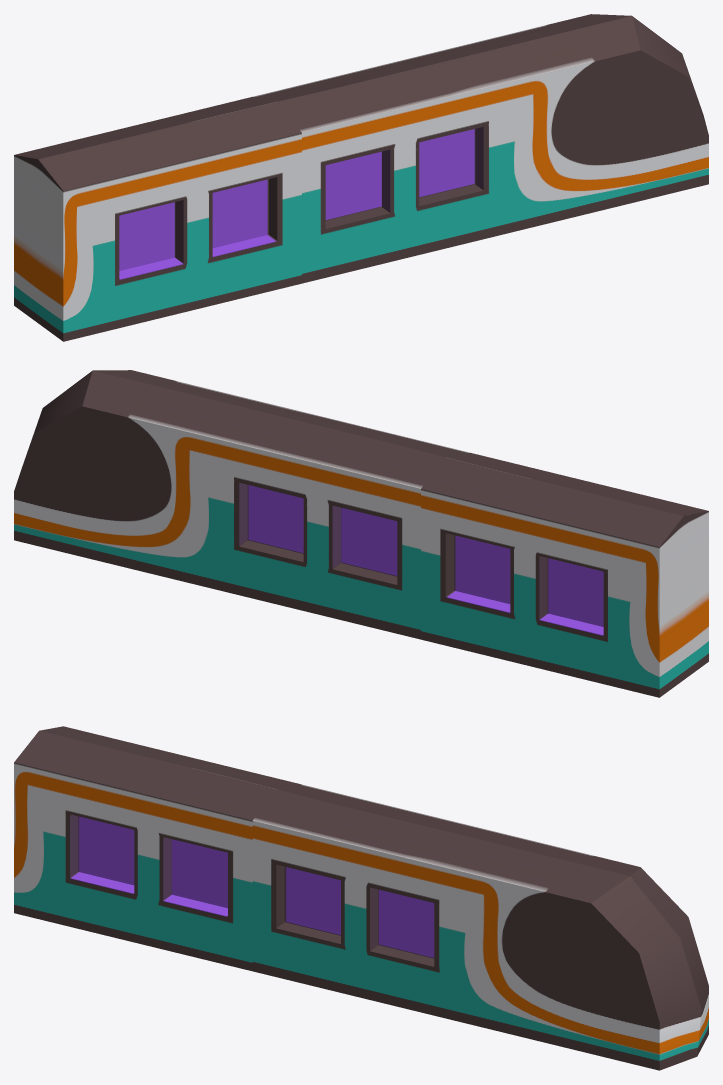
Rendered from MRT.fbx.
3 renders of one model, top to bottom at view 1: azimuth 30°, elevation 25°; view 2: azimuth 150°, elevation 25°; view 3: azimuth 330°, elevation 25°, orthographic.
Visible parts, largest first — view 1: polySurface14; view 2: polySurface14; view 3: polySurface14.
Part boxes in pixels (x1,y1,x2,y2): polySurface14: (14,14,708,341); polySurface14: (14,370,708,697); polySurface14: (14,726,708,1070).
Size of the model in its own units: 9.51 by 2.24 by 1.23.
